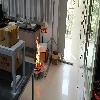fire: (35, 37, 41, 69)
